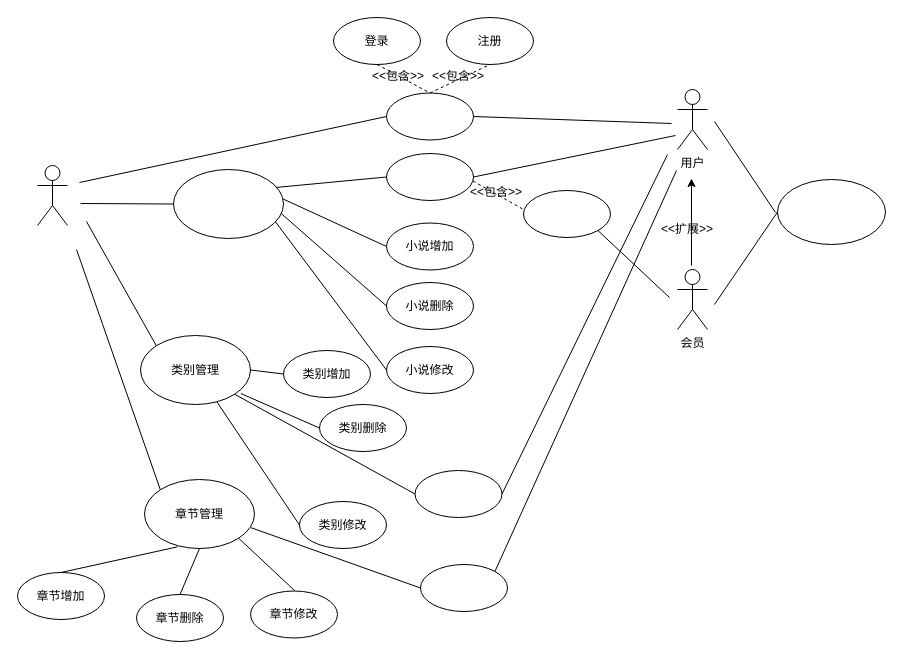
Image size: 903x659. Some labels were removed from this diagram. The centre of each missing label's shape, as x and y in pixels:
"个人中心" belongs at point (430, 116).
"会员小说查看" belongs at point (566, 214).
"充值会员" belongs at point (831, 211).
"小说查看" belongs at point (430, 176).
"小说管理" belongs at point (228, 203).
"章节查询" belongs at point (464, 588).
"管理员" belongs at point (52, 195).
"类别查询" belongs at point (458, 494).
